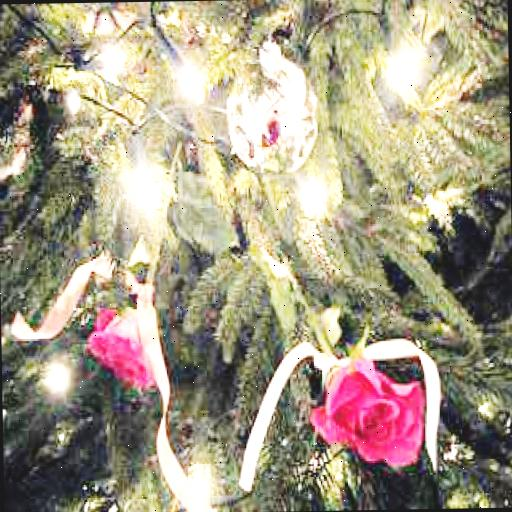rose: (311, 358, 428, 470), (88, 305, 156, 389)
